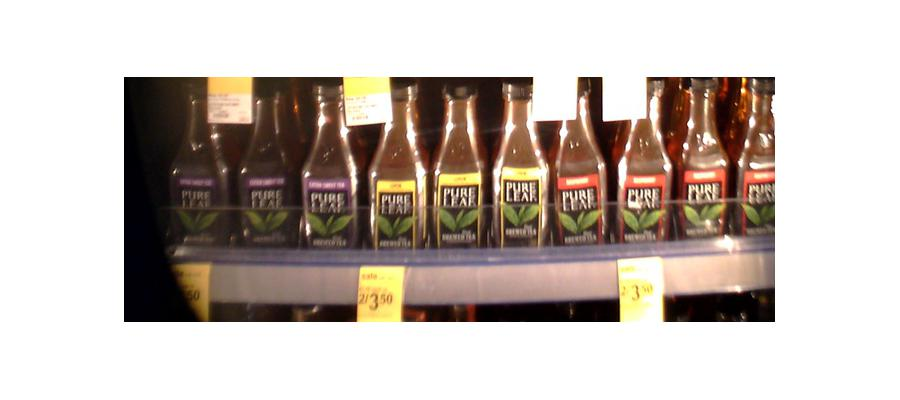bottle: (367, 79, 428, 253), (488, 77, 547, 251), (238, 80, 299, 248), (429, 80, 487, 253), (301, 83, 360, 250), (549, 88, 609, 250), (167, 90, 229, 246), (616, 88, 674, 245), (676, 79, 729, 241), (731, 72, 775, 237)
